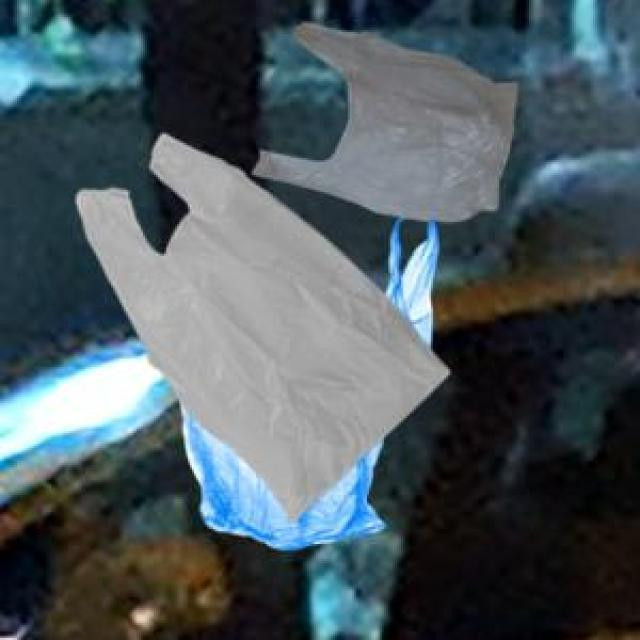waste: (78, 134, 449, 549), (254, 26, 516, 221)
